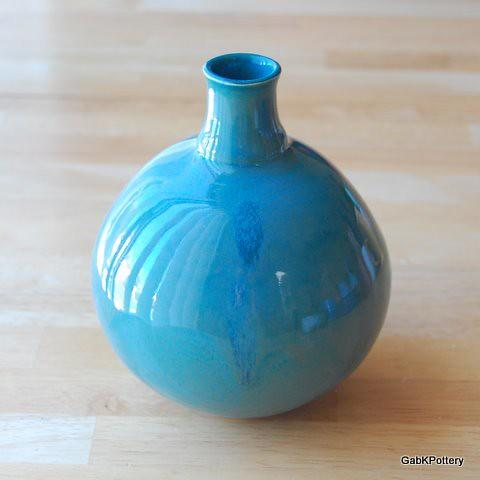bottle: (91, 52, 393, 420)
